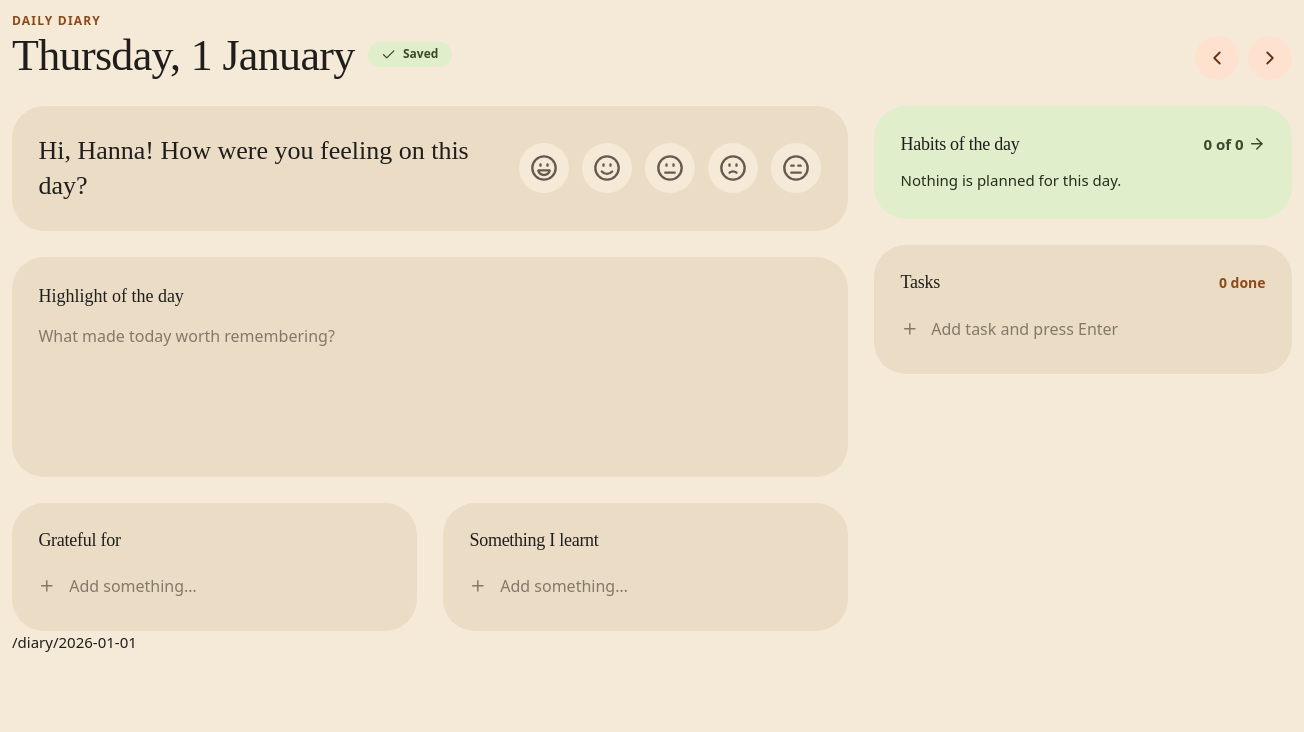
moving between days › crosses a month and a year boundary
Click the button named "Previous day" at (1217, 58), box [1195,36,1239,80]
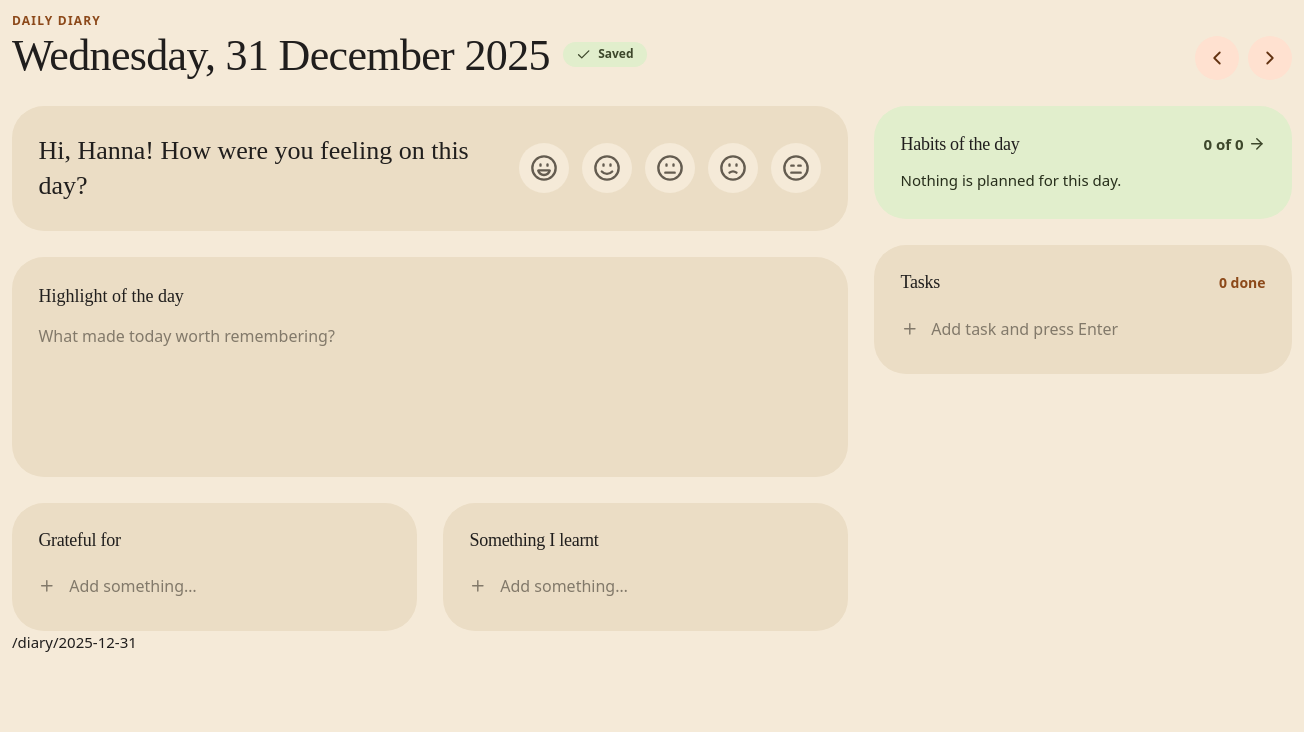
Now the text with test id "location" reads "/diary/2025-12-31", box [12,632,137,652]
